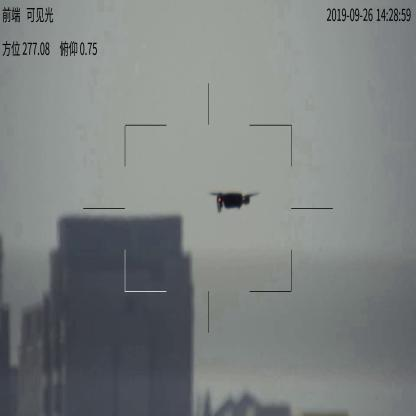uav: (204, 187, 260, 215)
